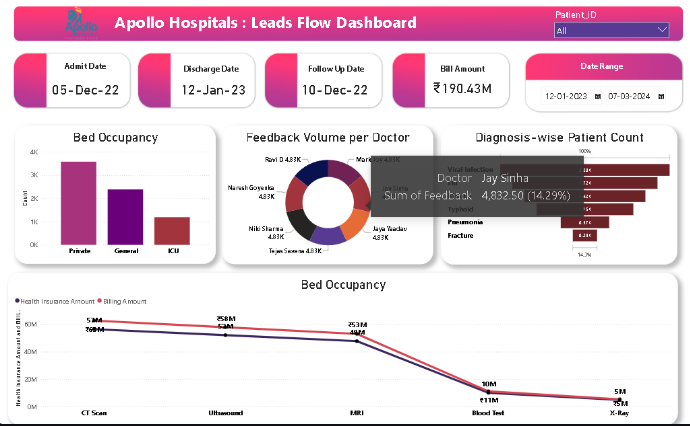

What the dashboard file says about the page in this screenshot:
{"tool":"powerbi","page":{"name":"Page 2","canvas":[1680,1050],"ordinal":0},"visuals":[{"type":"textbox","box":[280,27.1,755.7,74.3],"z":0},{"type":"image","box":[2636.7,100,623.3,150],"z":1000},{"type":"slicer","fields":{"Values":["Sheet1.Patient_ID"]},"box":[2400,373.3,793.3,420],"z":2000},{"type":"card","fields":{"Values":["Min(Sheet1.Admit_Date)"]},"box":[437.6,198.8,162.9,42.8],"z":3000},{"type":"card","fields":{"Values":["Min(Sheet1.Discharge_Date)"]},"box":[129.8,198.8,172.6,42.8],"z":4000},{"type":"card","fields":{"Values":["Min(Sheet1.Followup Date)"]},"box":[724.3,198.6,167.1,42.9],"z":5000},{"type":"textbox","box":[152.9,145.7,127.1,57.1],"z":6000},{"type":"textbox","box":[437.1,151.4,151.4,37.1],"z":7000},{"type":"textbox","box":[732.9,151.4,158.6,37.1],"z":8000},{"type":"textbox","box":[1035.7,151.4,151.4,37.1],"z":9000},{"type":"card","fields":{"Values":["Sum(Sheet1.Billing Amount)"]},"box":[1031.4,194.3,158.6,42.9],"z":10000},{"type":"columnChart","title":"Bed Occupancy","fields":{"Category":["Sheet1.Bed_Occupancy"],"Y":["CountNonNull(Sheet1.Bed_Occupancy)"]},"box":[47.1,305.7,477.1,328.6],"z":15000},{"type":"donutChart","title":"Feedback Volume per Doctor","fields":{"Category":["Sheet1.Doctor"],"Y":["Sum(Sheet1.Feedback)"]},"box":[540.2,305.2,501,329.5],"z":16000},{"type":"funnel","title":"Diagnosis-wise Patient Count","fields":{"Category":["Sheet1.Diagnosis"],"Y":["CountNonNull(Sheet1.Diagnosis)"]},"box":[1060,305.7,560,330],"z":17000},{"type":"lineChart","title":"Bed Occupancy","fields":{"Y":["Sum(Sheet1.Health Insurance Amount)","Sum(Sheet1.Billing Amount)"],"Category":["Sheet1.Test"]},"box":[31.1,656.3,1589.5,363.3],"z":19000},{"type":"slicer","fields":{"Values":["Sheet1.Admit_Date"]},"box":[1284.3,201.2,360.6,68.9],"z":20000},{"type":"slicer","fields":{"Values":["Sheet1.Patient_ID"]},"box":[1317.1,24.3,292.9,82.9],"z":21000},{"type":"textbox","box":[1365.7,145.7,151.4,37.1],"z":22000},{"type":"image","box":[130,11.4,151.4,95.7],"z":22001}]}

Visuals, with their boxes in screenshot pixels (x1, y1, x2, y2), scaled from the page's 1680x1050 canvas onto the 690x426 screenshot:
textbox: 115,11,425,41
card - Min(Sheet1.Admit_Date): 180,81,247,98
card - Min(Sheet1.Discharge_Date): 53,81,124,98
card - Min(Sheet1.Followup Date): 297,81,366,98
textbox: 63,59,115,82
textbox: 180,61,242,76
textbox: 301,61,366,76
textbox: 425,61,488,76
card - Sum(Sheet1.Billing Amount): 424,79,489,96
"Bed Occupancy" columnChart: 19,124,215,257
"Feedback Volume per Doctor" donutChart: 222,124,428,258
"Diagnosis-wise Patient Count" funnel: 435,124,665,258
"Bed Occupancy" lineChart: 13,266,666,414
slicer - Sheet1.Admit_Date: 527,82,676,110
slicer - Sheet1.Patient_ID: 541,10,661,43
textbox: 561,59,623,74
image: 53,5,116,43
